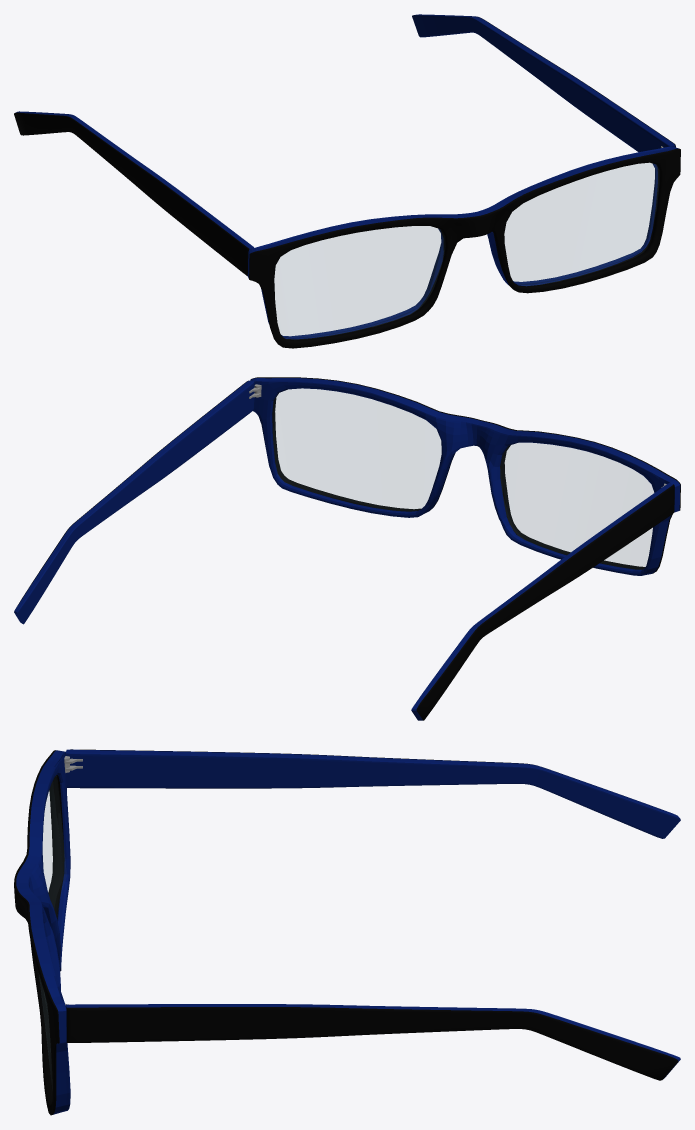
The model's file is Modelo_4.fbx.
3 views of the same model, one above another, from view 1: azimuth 30°, elevation 25°; view 2: azimuth 150°, elevation 25°; view 3: azimuth 270°, elevation 25° (orthographic). The views are drawn at different scales.
Visible parts, largest first — view 1: lentes_4, Marco_Color1, Pata_izq_color2, Pata_der_color1, Marco_Color2, Pata_der_color2; view 2: lentes_4, Marco_Color2, Pata_izq_color2, Pata_der_color1, Marco_Color1, Pata_der_color2; view 3: Pata_der_color2, Pata_izq_color1, Marco_Color2, Marco_Color1, Pata_izq_color2, lentes_4.
Part boxes in pixels (<box>): lentes_4: <box>275,163,658,337</box>; Marco_Color1: <box>249,148,680,348</box>; Pata_izq_color2: <box>412,14,675,152</box>; Pata_der_color1: <box>14,112,249,275</box>; Marco_Color2: <box>247,146,678,339</box>; Pata_der_color2: <box>15,111,254,250</box>; lentes_4: <box>273,389,653,569</box>; Marco_Color2: <box>250,378,680,575</box>; Pata_izq_color2: <box>14,380,254,624</box>; Pata_der_color1: <box>416,484,674,720</box>; Marco_Color1: <box>250,377,680,573</box>; Pata_der_color2: <box>411,483,673,720</box>; Pata_der_color2: <box>65,749,680,838</box>; Pata_izq_color1: <box>66,1007,678,1080</box>; Marco_Color2: <box>16,750,70,1114</box>; Marco_Color1: <box>14,750,64,1115</box>; Pata_izq_color2: <box>65,1004,680,1078</box>; lentes_4: <box>39,776,65,1061</box>.
Bounding box in the file's own units: 18.59 × 4.83 × 20.07.
